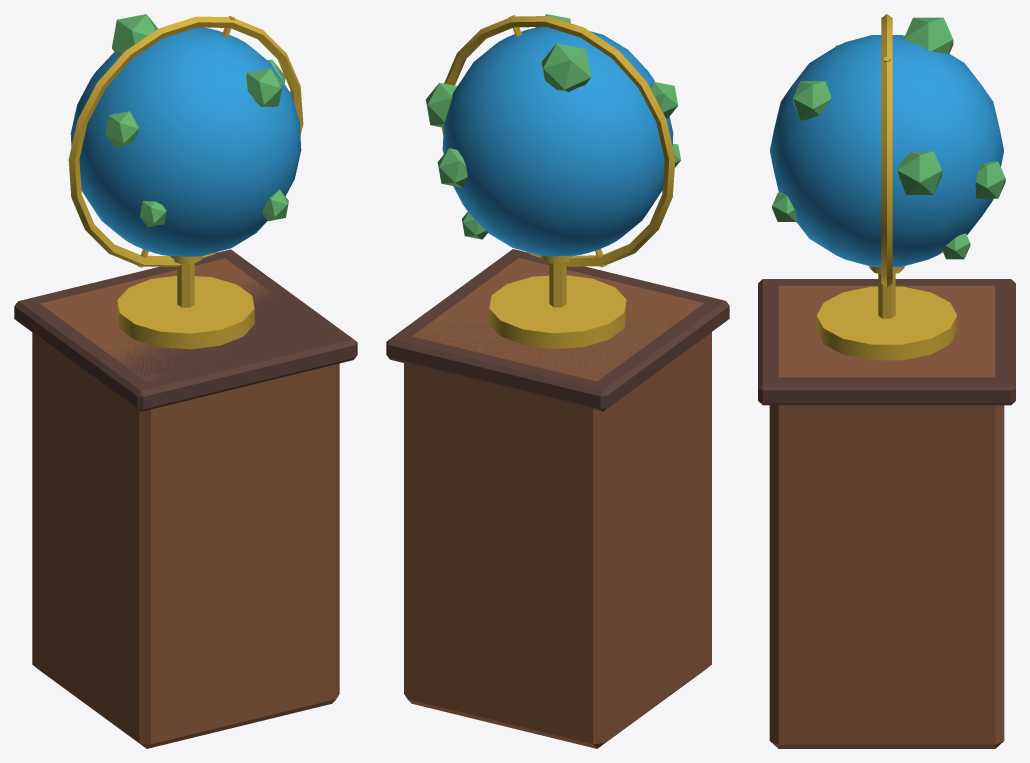
The model's file is desk_globe.glb.
3 renders of one model, left to right at view 1: azimuth 30°, elevation 25°; view 2: azimuth 150°, elevation 25°; view 3: azimuth 270°, elevation 25°, orthographic.
Parts seen in each view (by area): view 1: desk_globe; view 2: desk_globe; view 3: desk_globe.
Part boxes in pixels (x1=…): desk_globe: x1=14, y1=14, x2=357, y2=748; desk_globe: x1=386, y1=14, x2=729, y2=748; desk_globe: x1=758, y1=14, x2=1015, y2=748.
Bounding box in the file's own units: 0.4682 × 1.27 × 0.44.
